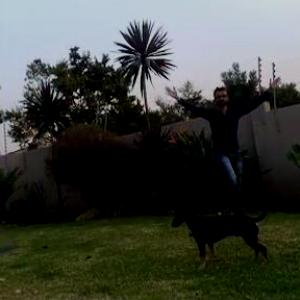takeoff: (149, 82, 262, 214)
